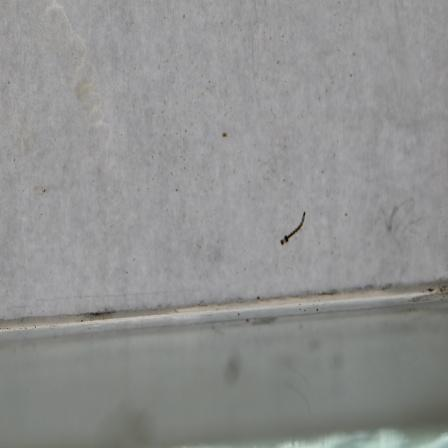Jentik-Nyamuk: (277, 208, 310, 248)
